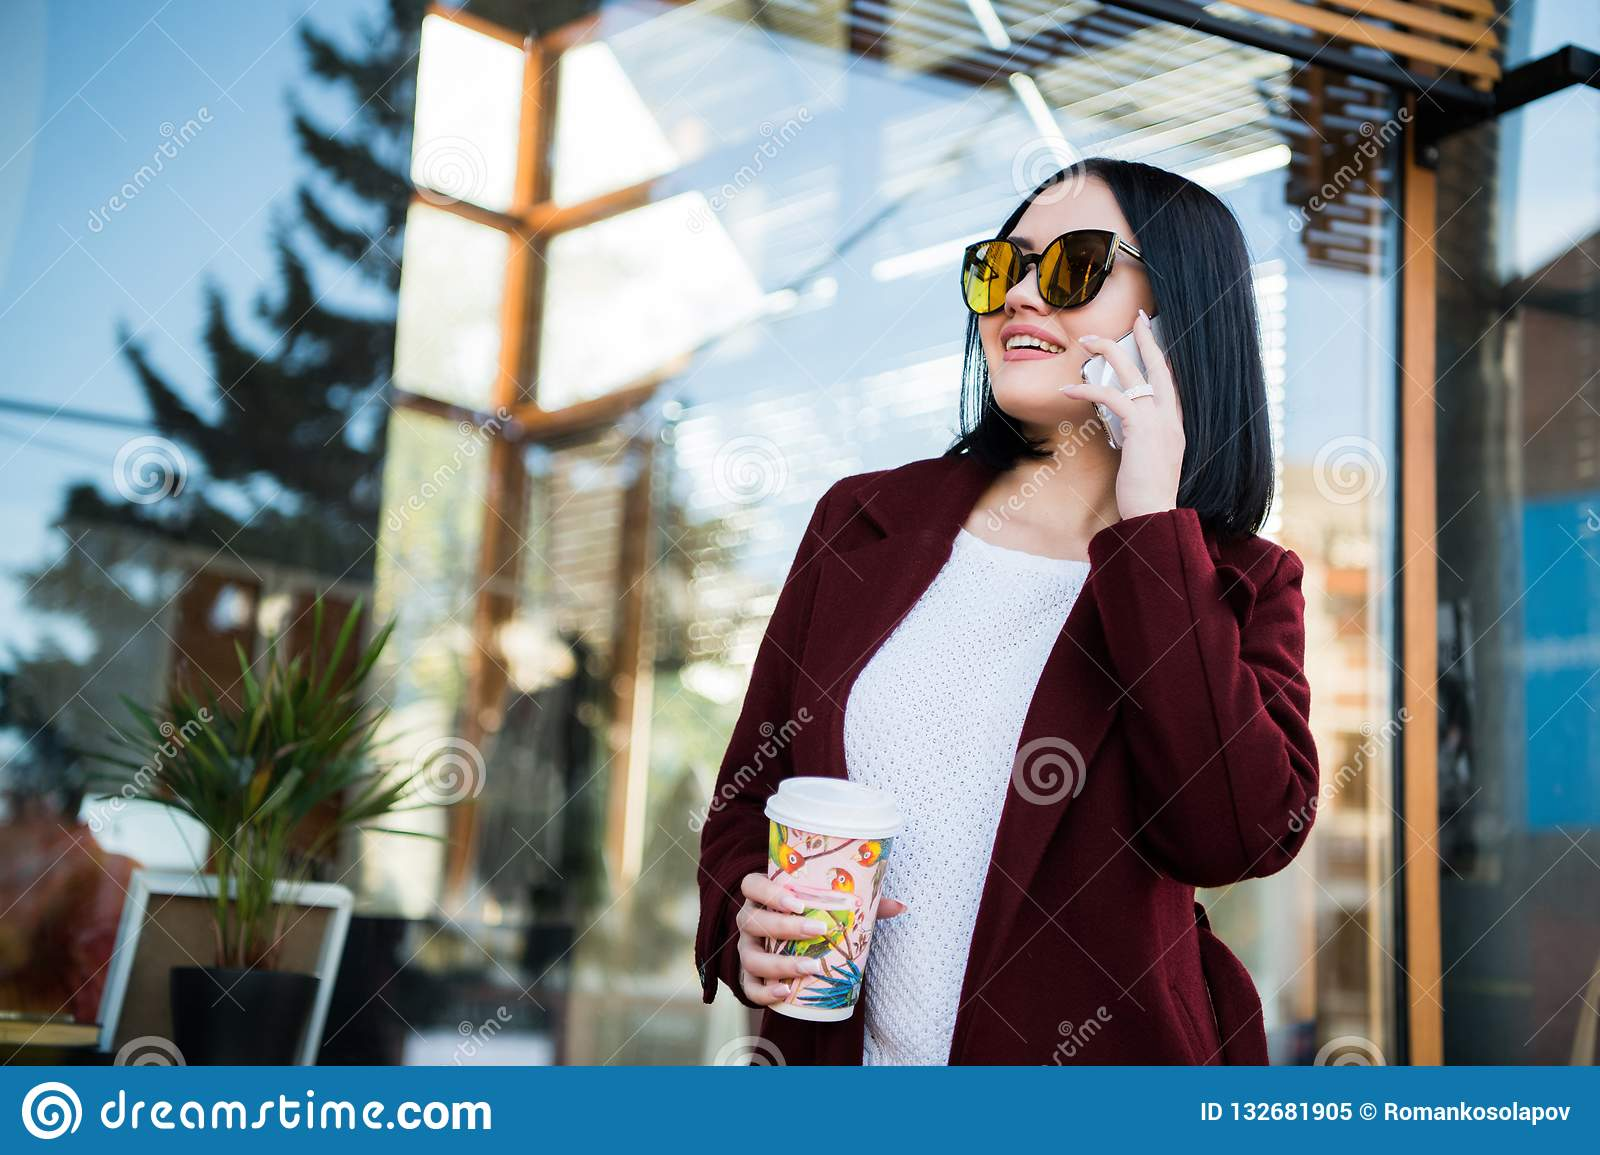phone: (1070, 293, 1176, 461)
talk: (971, 220, 1188, 505)
